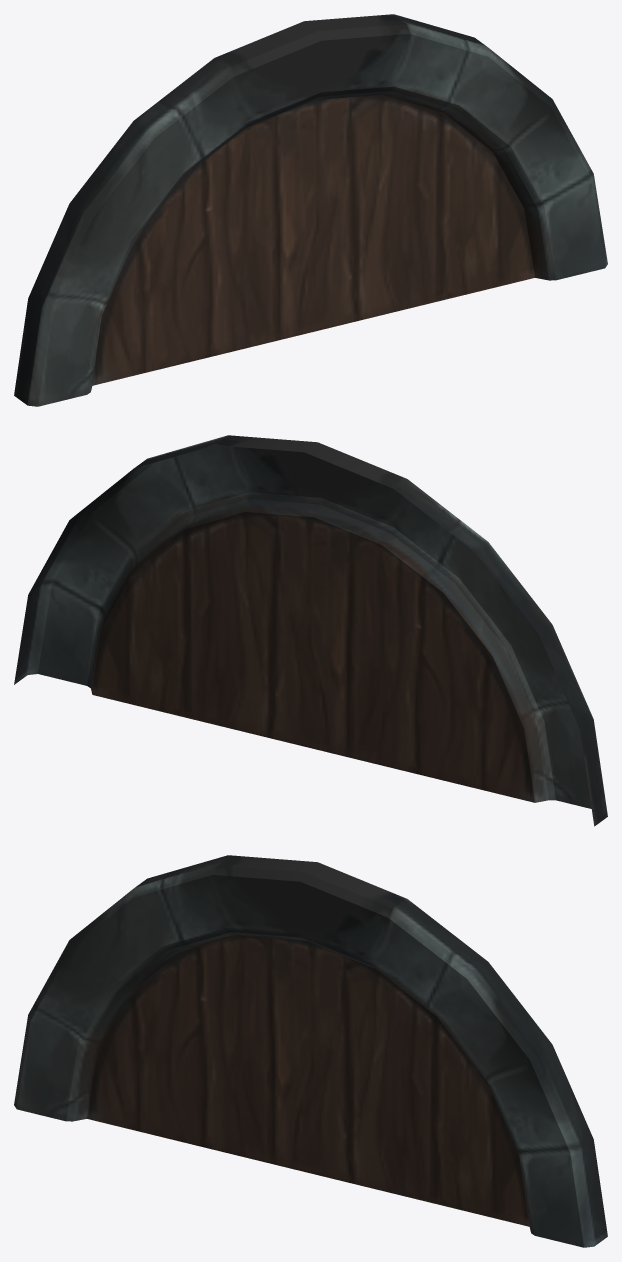
The model's file is player_cards_in_hand.DAE.
The picture shows the model from 3 angles, top to bottom: view 1: azimuth 30°, elevation 25°; view 2: azimuth 150°, elevation 25°; view 3: azimuth 330°, elevation 25°; orthographic projection.
Parts seen in each view (by area): view 1: Cylinder111; view 2: Cylinder111; view 3: Cylinder111.
Part boxes in pixels (<box>): Cylinder111: <box>14,14,607,406</box>; Cylinder111: <box>14,435,607,826</box>; Cylinder111: <box>14,855,607,1247</box>.
Bounding box in the file's own units: 355 × 177 × 18.44.
Materials: 1 (1 with a texture image).
